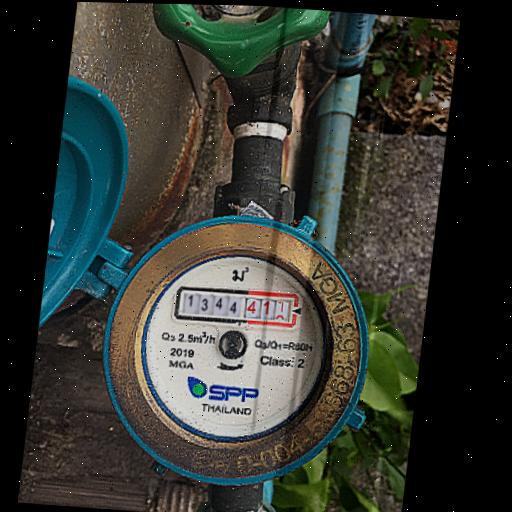1: (183, 294, 198, 314), (260, 300, 275, 320), (275, 301, 289, 321)
3: (198, 296, 213, 315)
4: (213, 296, 228, 316), (227, 298, 242, 318), (245, 299, 260, 319)
border_water_meter_number: (173, 285, 300, 328)
